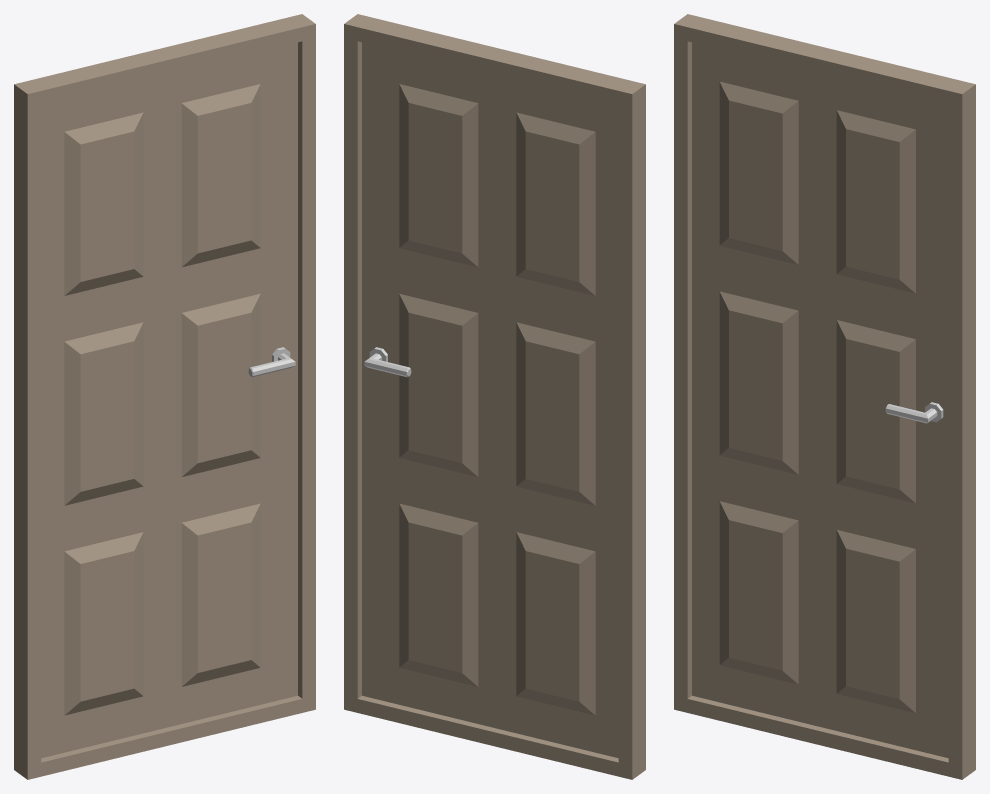
File: Mesh_Door_A03.fbx
3 views of the same model, side by side, from view 1: azimuth 30°, elevation 25°; view 2: azimuth 150°, elevation 25°; view 3: azimuth 330°, elevation 25° (orthographic).
Visible parts, largest first — view 1: Mesh_Door_A03; view 2: Mesh_Door_A03; view 3: Mesh_Door_A03.
Part boxes in pixels (left/top/right/bottom): Mesh_Door_A03: left=14, top=14, right=315, bottom=779; Mesh_Door_A03: left=344, top=14, right=645, bottom=779; Mesh_Door_A03: left=674, top=14, right=975, bottom=779.
Size of the model in its own units: 0.9 by 2.05 by 0.1482.
